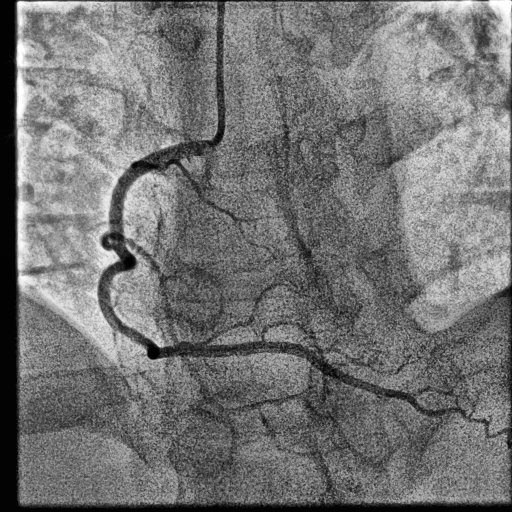pda: (183, 341, 459, 419)
rca: (97, 140, 214, 360)
